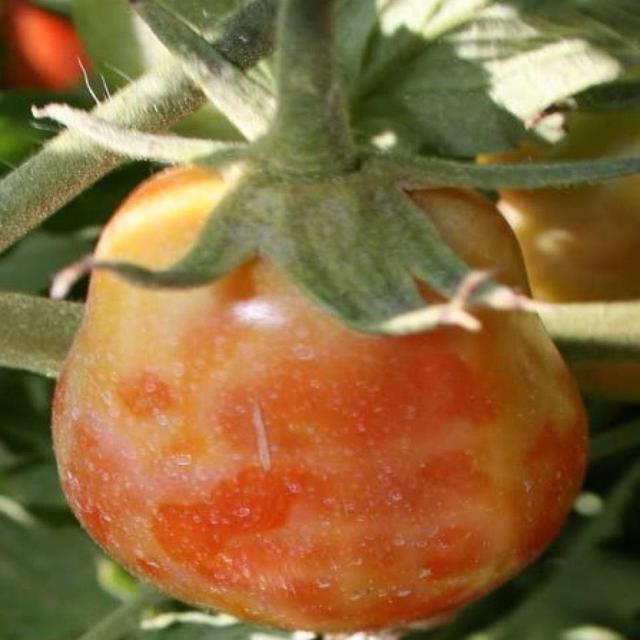Spotted wilt Virus Fruit: (40, 84, 390, 420)
